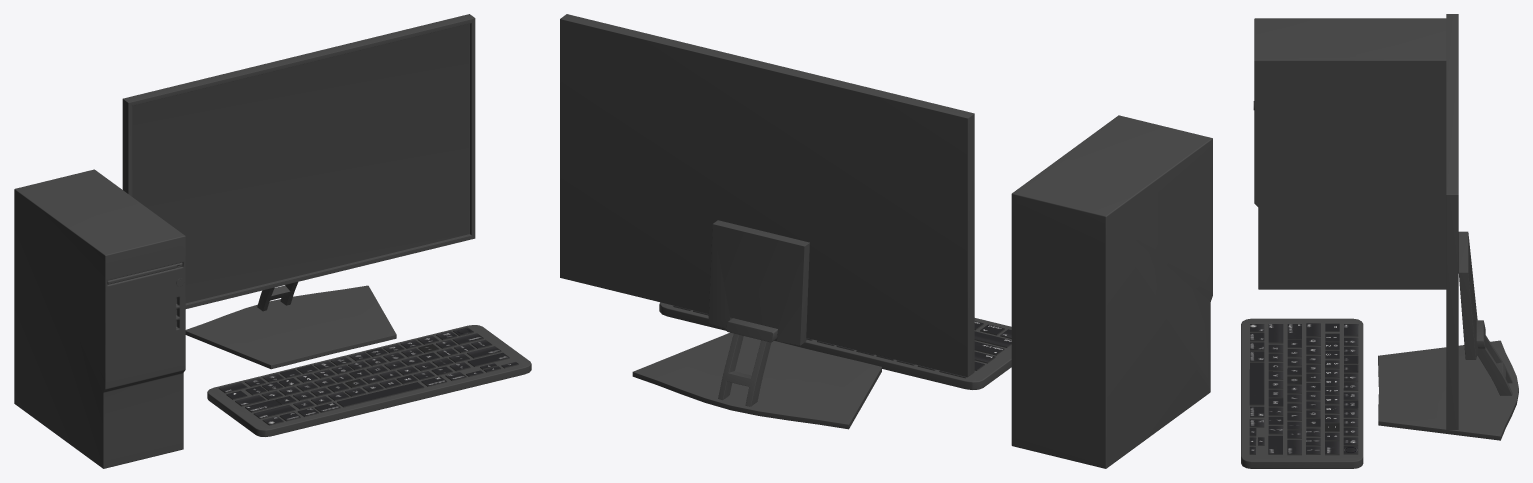
Rendered from desktop_pc.glb.
3 views of the same model, side by side, from view 1: azimuth 30°, elevation 25°; view 2: azimuth 150°, elevation 25°; view 3: azimuth 270°, elevation 25° (orthographic). The views are drawn at different scales.
Parts seen in each view (by area): view 1: Plane, Cube.001, Plane.001; view 2: Plane, Cube.001, Plane.001; view 3: Cube.001, Plane.001, Plane.
Boxes of the visible parts, x1,y1,x2,y2 form: Plane: [122, 14, 475, 369]; Cube.001: [14, 169, 185, 468]; Plane.001: [207, 325, 531, 436]; Plane: [560, 14, 974, 429]; Cube.001: [1011, 115, 1212, 468]; Plane.001: [659, 302, 1011, 389]; Cube.001: [1253, 18, 1446, 289]; Plane.001: [1241, 318, 1363, 468]; Plane: [1378, 14, 1518, 440].
Bounding box in the file's own units: 3.56 × 2.03 × 1.74.
Materials: 4 (1 with a texture image).
